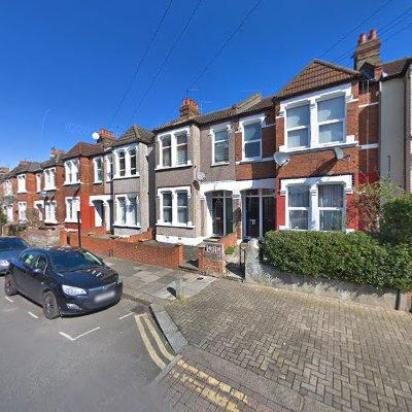stationary-car-onstreet: (3, 246, 125, 318), (0, 234, 30, 276)
